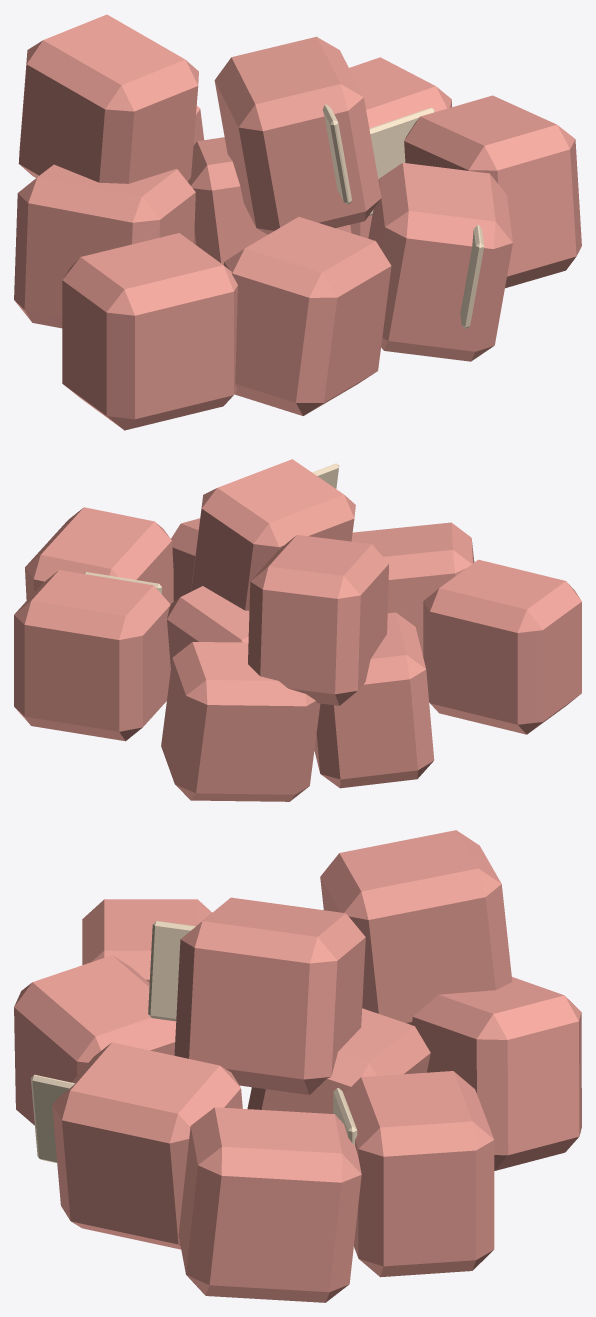
File: FTF_Ingredient_ChoppedPork.glb
3 renders of one model, top to bottom at view 1: azimuth 30°, elevation 25°; view 2: azimuth 150°, elevation 25°; view 3: azimuth 270°, elevation 25°, orthographic. The views are drawn at different scales.
Parts seen in each view (by area): view 1: FTF_Ingredient_ChoppedPork_StaticMesh; view 2: FTF_Ingredient_ChoppedPork_StaticMesh; view 3: FTF_Ingredient_ChoppedPork_StaticMesh.
Part boxes in pixels (box(x1,y1,x2,y2)): FTF_Ingredient_ChoppedPork_StaticMesh: box(14, 14, 581, 430); FTF_Ingredient_ChoppedPork_StaticMesh: box(14, 459, 581, 801); FTF_Ingredient_ChoppedPork_StaticMesh: box(14, 830, 581, 1302).
Size of the model in its own units: 0.7005 by 0.3301 by 0.6196.
